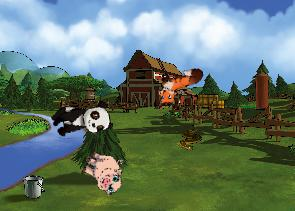fox: (150, 65, 209, 112)
panda: (49, 99, 113, 140)
pig: (76, 145, 130, 198)
